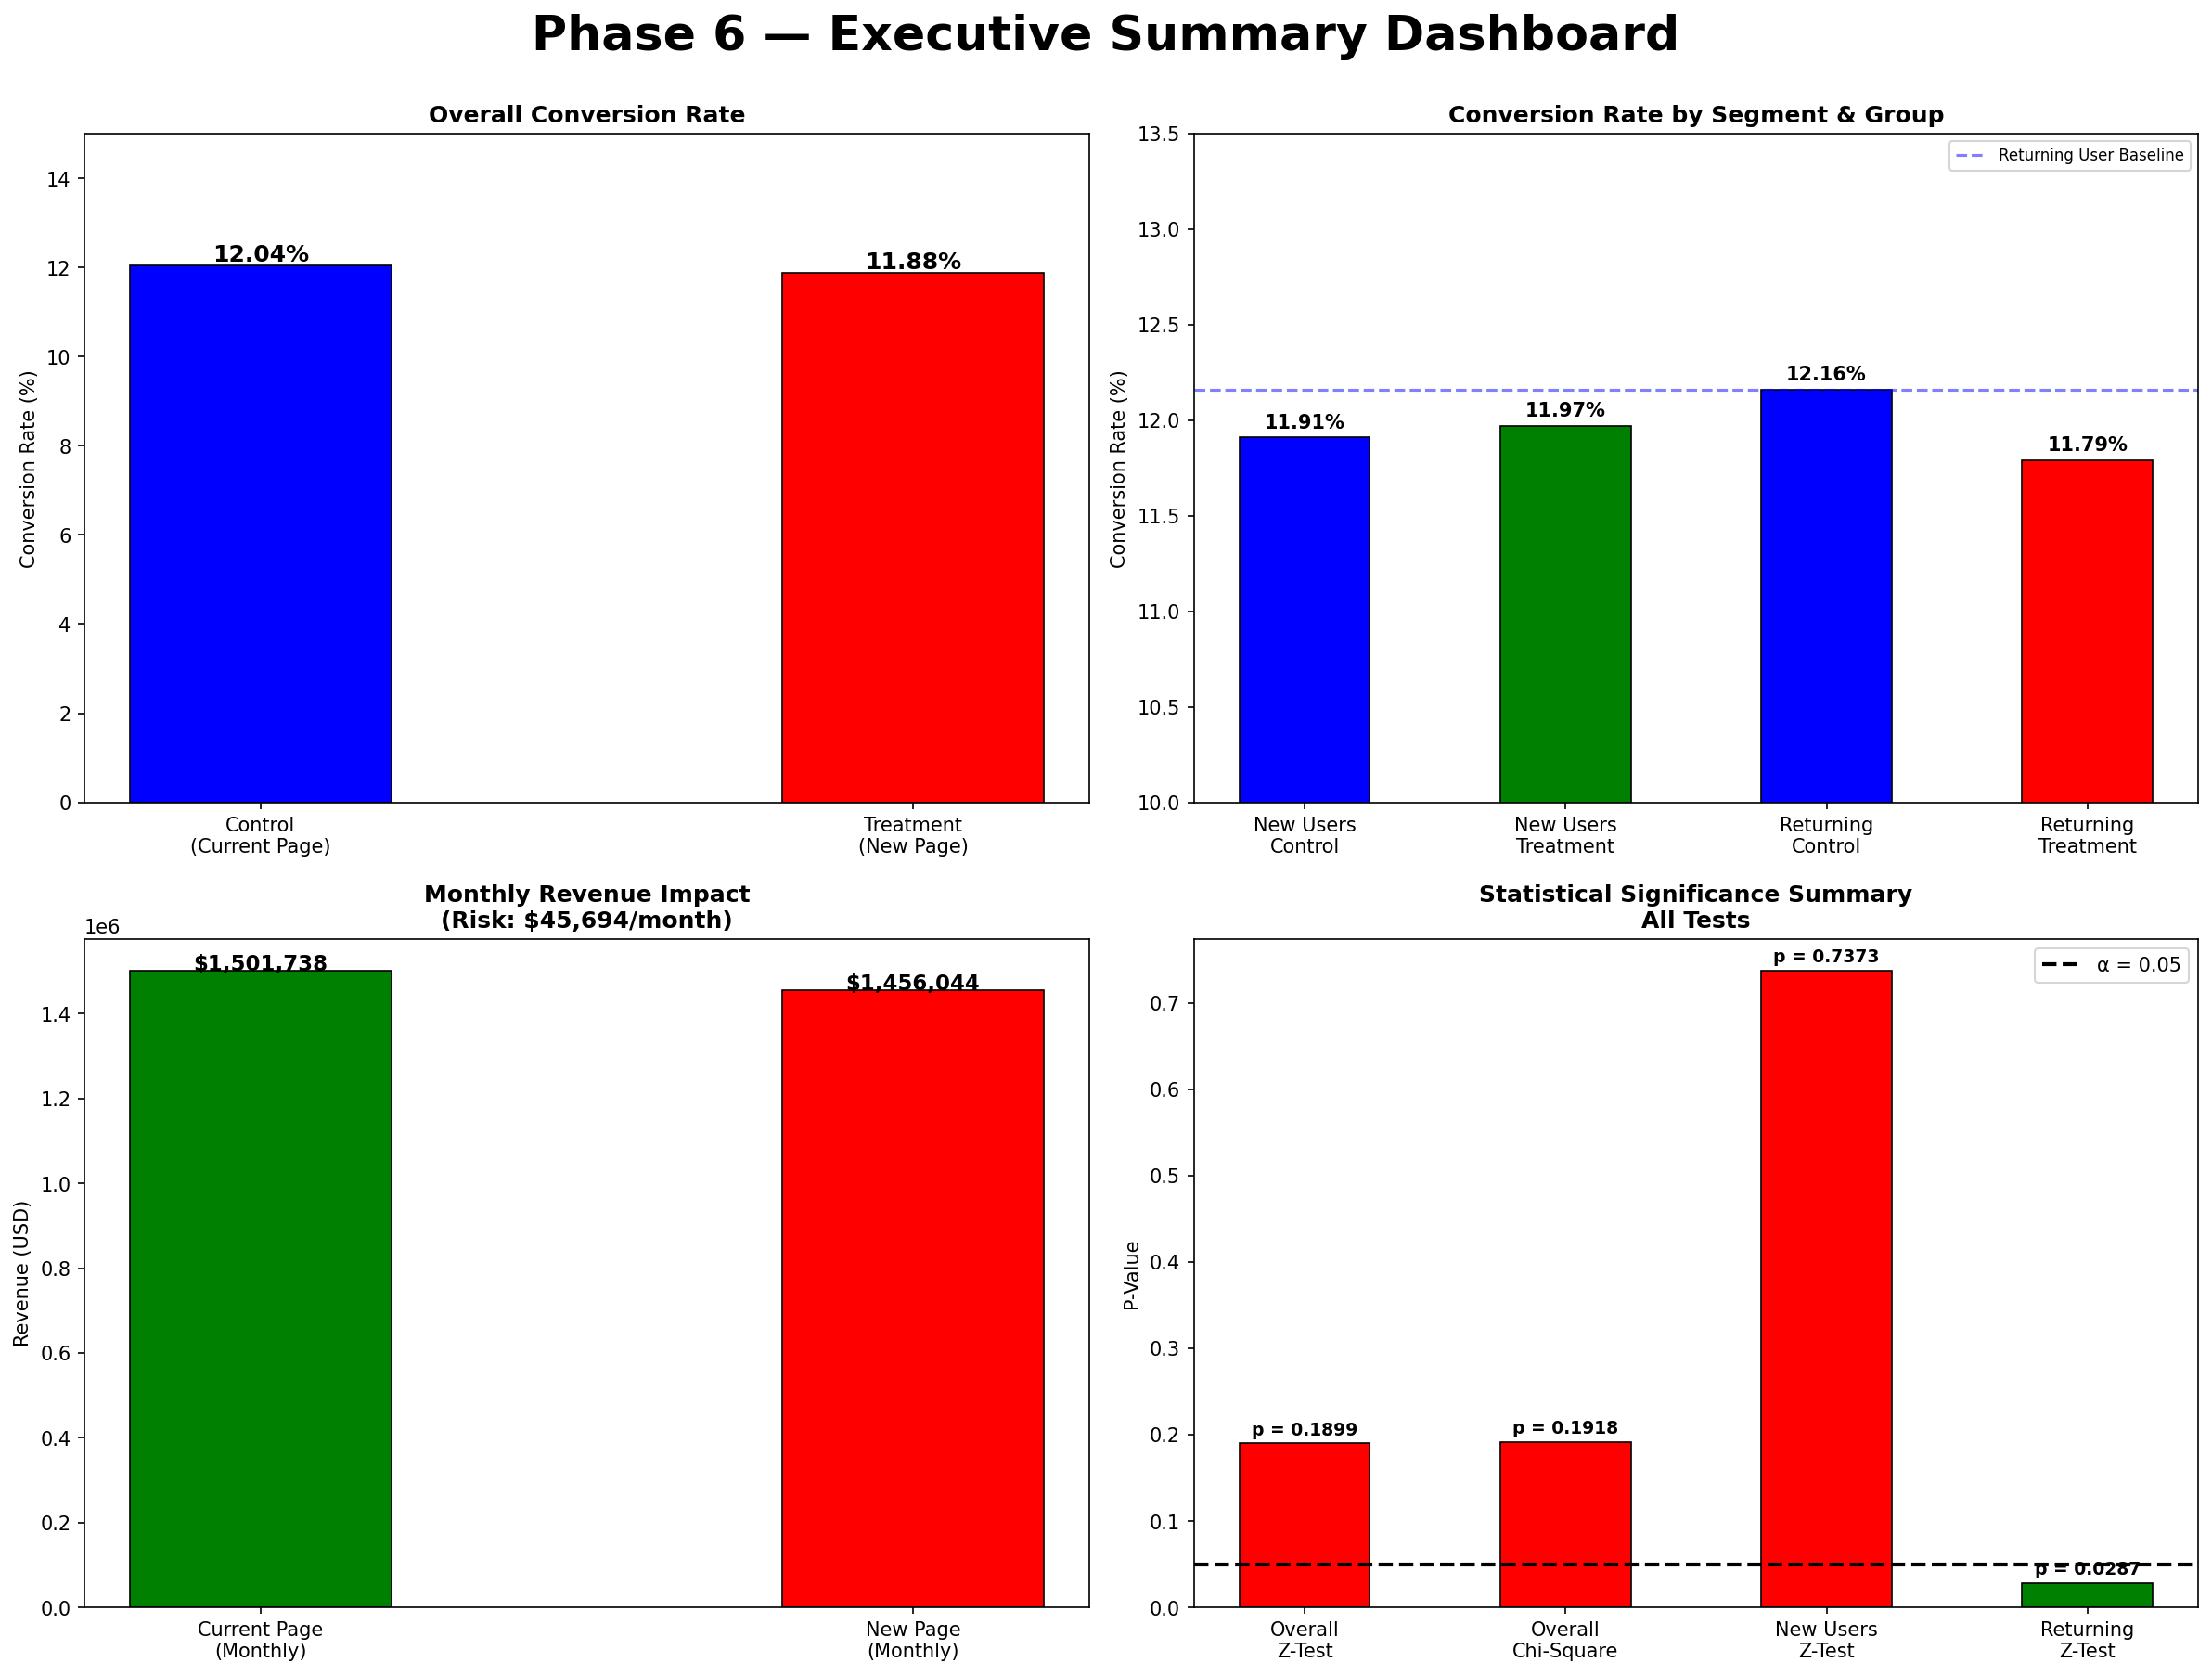

What the dashboard file says about the page in this screenshot:
{"tool":"tableau","page":{"name":"E-commerce A/B Test — Executive Dashboard","canvas":[2349,1256],"ordinal":0},"visuals":[{"type":"text","box":[8,8,2333,81]},{"type":"worksheet","title":"Conversion Rate by Group","mark":"Automatic","rows":["Calculation_1888749175431168"],"cols":["group"],"box":[8,89,1086.5,579.5]},{"type":"worksheet","title":"Conversion Rate by Segment","mark":"Automatic","rows":["Calculation_1888749175431168"],"cols":["Calculation_2815362931953664","group"],"box":[1094.5,89,1086.5,579.5]},{"type":"legend","title":"Conversion Rate by Group","param":"[federated.17i337s17so26x17c4nyb0u5poyi].[none:group:nk]","box":[2181,89,160,66]},{"type":"legend","title":"Revenue Impact","param":"[federated.1fjv4xo04id8ex124j4s41f4qldx].[none:Scenario:nk]","box":[2181,155,160,66]},{"type":"worksheet","title":"Revenue Impact","mark":"Automatic","rows":["Revenue"],"cols":["Scenario"],"box":[8,668.5,1659,579.5]},{"type":"worksheet","title":"Statistical Summary","mark":"Automatic","box":[1667,668.5,514,579.5]}]}

Visuals, with their boxes on the page's 2349x1256 design canvas (x1, y1, x2, y2). These are canvas units, not pixel positions in the 2212x1675 screenshot, which may show the page scaled, cropped or inside an application window:
text: <box>8,8,2341,89</box>
"Conversion Rate by Group" worksheet: <box>8,89,1094,668</box>
"Conversion Rate by Segment" worksheet: <box>1094,89,2181,668</box>
"Conversion Rate by Group" legend: <box>2181,89,2341,155</box>
"Revenue Impact" legend: <box>2181,155,2341,221</box>
"Revenue Impact" worksheet: <box>8,668,1667,1248</box>
"Statistical Summary" worksheet: <box>1667,668,2181,1248</box>
